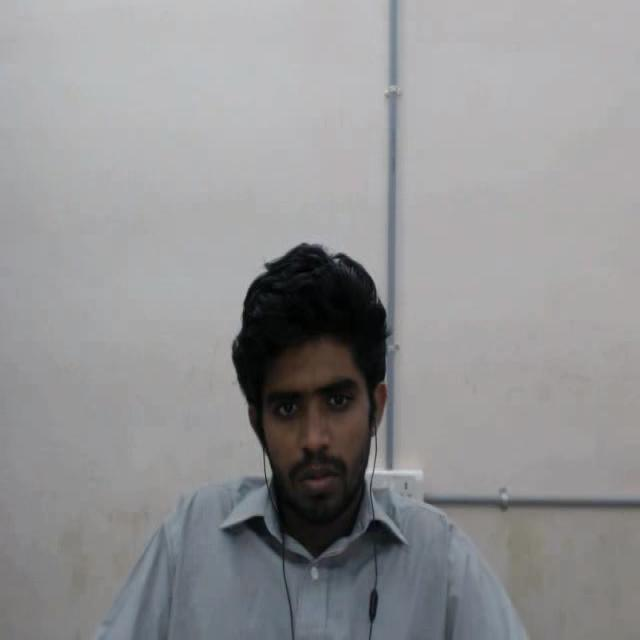Engaged: (219, 237, 421, 531)
